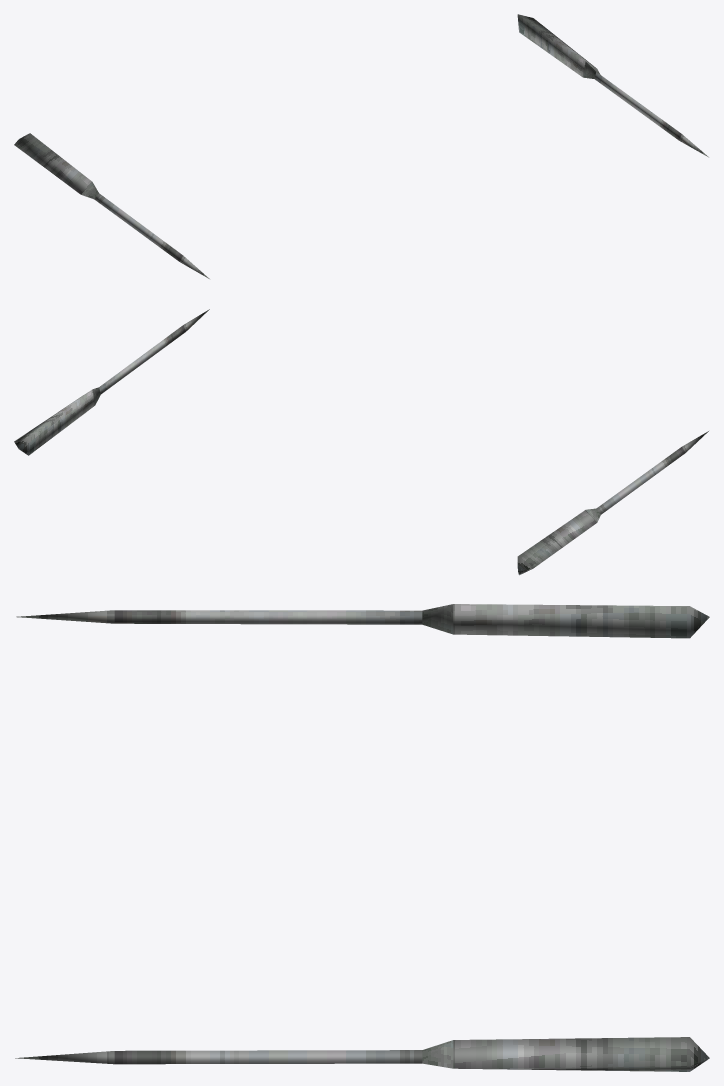
The model's file is hutt_fighter_medium_weapon2_s05_l3.fbx.
The picture shows the model from 3 angles, top to bottom: view 1: azimuth 30°, elevation 25°; view 2: azimuth 150°, elevation 25°; view 3: azimuth 270°, elevation 25°; orthographic projection. The views are drawn at different scales.
Visible parts, largest first — view 1: mesh_node; view 2: mesh_node; view 3: mesh_node.
Boxes of the visible parts, left/top/right/bottom form: mesh_node: left=14, top=14, right=708, bottom=278; mesh_node: left=14, top=309, right=708, bottom=575; mesh_node: left=15, top=604, right=709, bottom=1071.
Size of the model in its own units: 13.63 by 0.465 by 8.72.
Materials: 1 (1 with a texture image).
